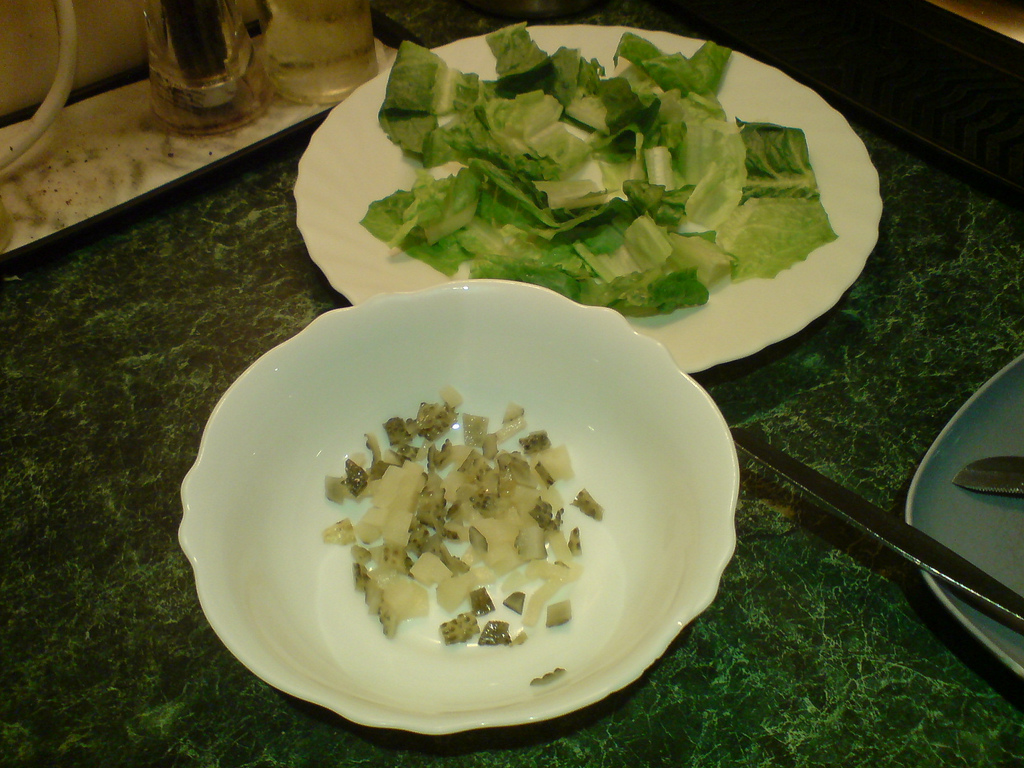chopped lettuce: (381, 40, 804, 299)
